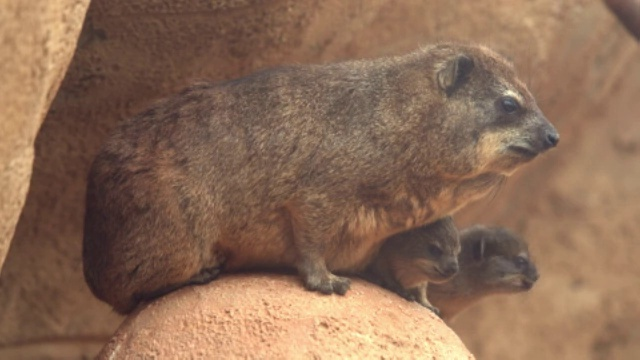Rock Hyrex: (84, 41, 561, 315), (345, 205, 460, 313), (426, 225, 542, 325)
